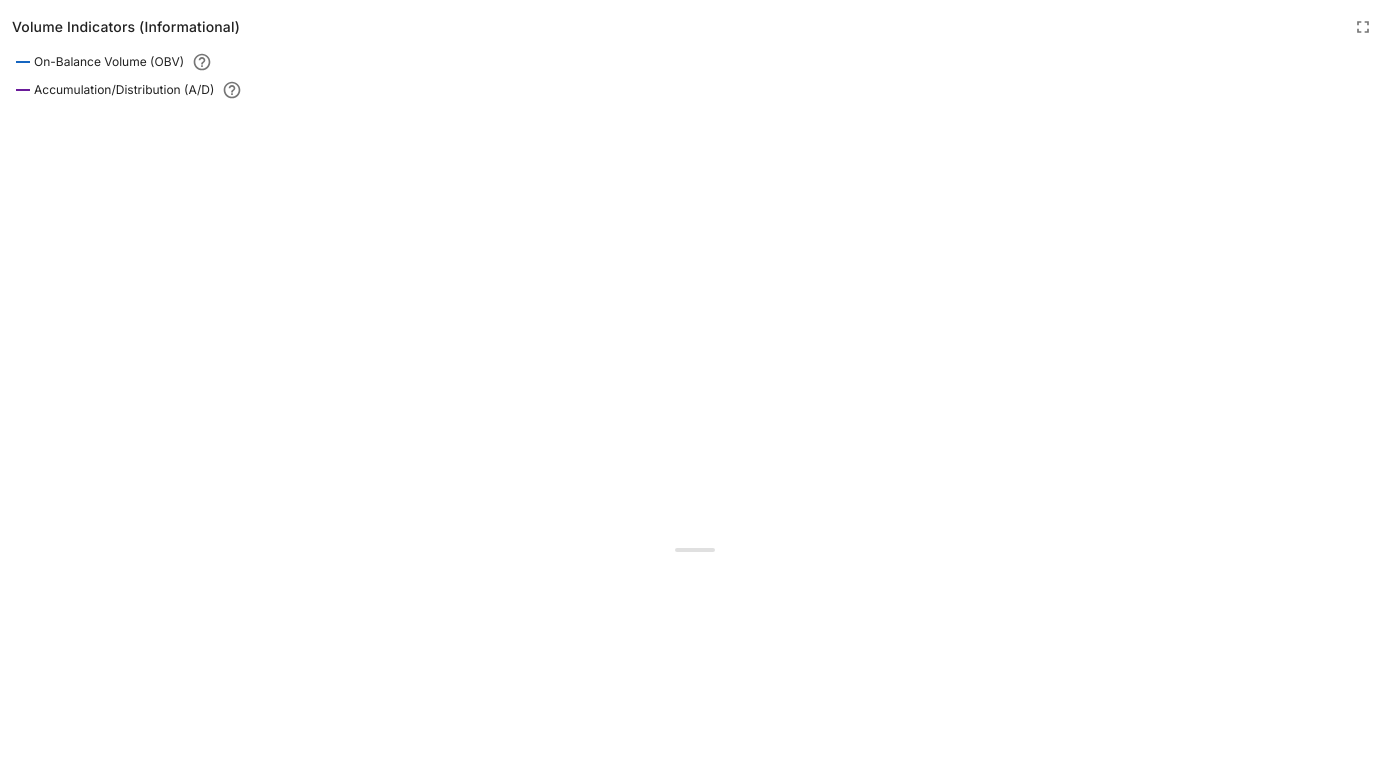
Test: VolumeIndicatorsChart › clicking the A/D legend label hides the A/D series only, leaving OBV visible
This screenshot has width=1390, height=780.
Click the button with aria-label "Hide Accumulation/Distribution (A/D) on the chart" at (115, 90), box x1=12 y1=78 x2=218 y2=102
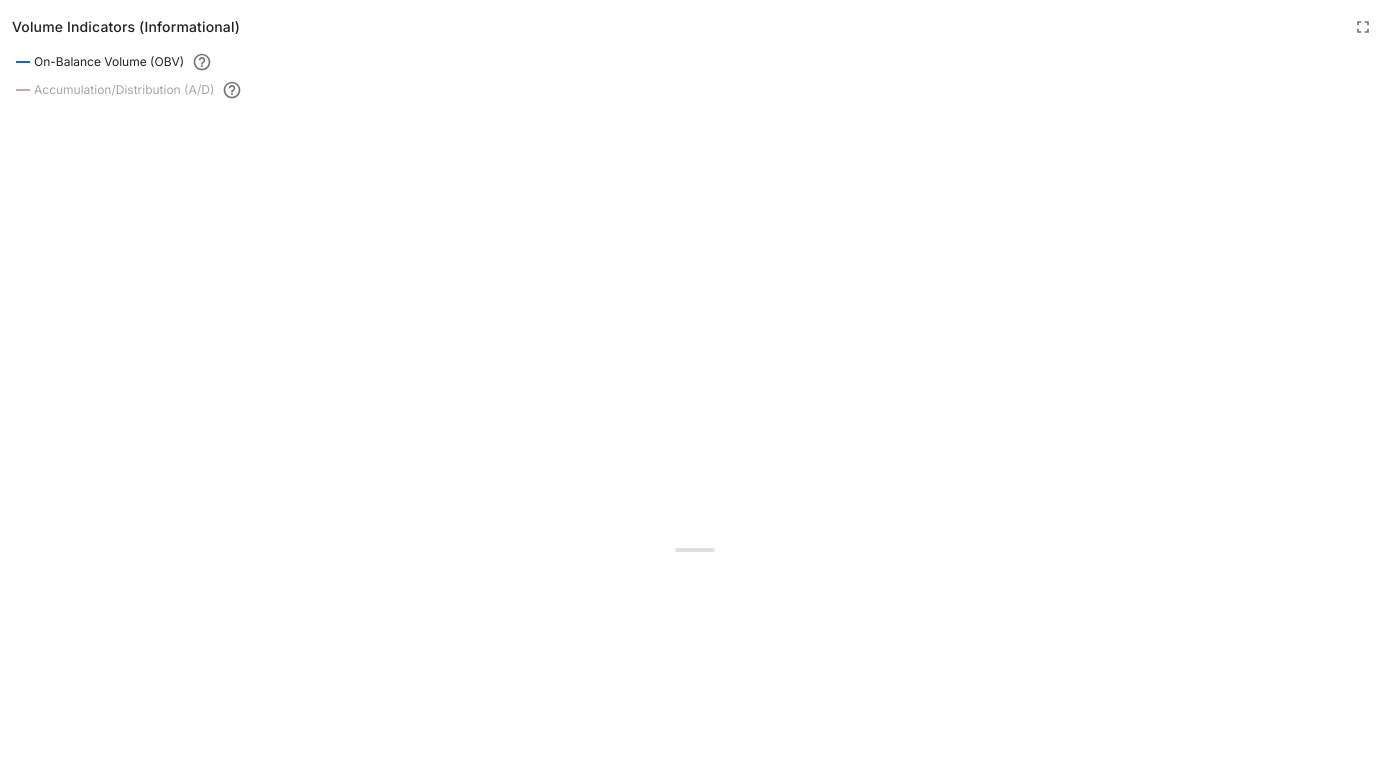
Click the button named "Accumulation/Distribution (A/D) help" at (232, 90), box x1=222 y1=80 x2=242 y2=100
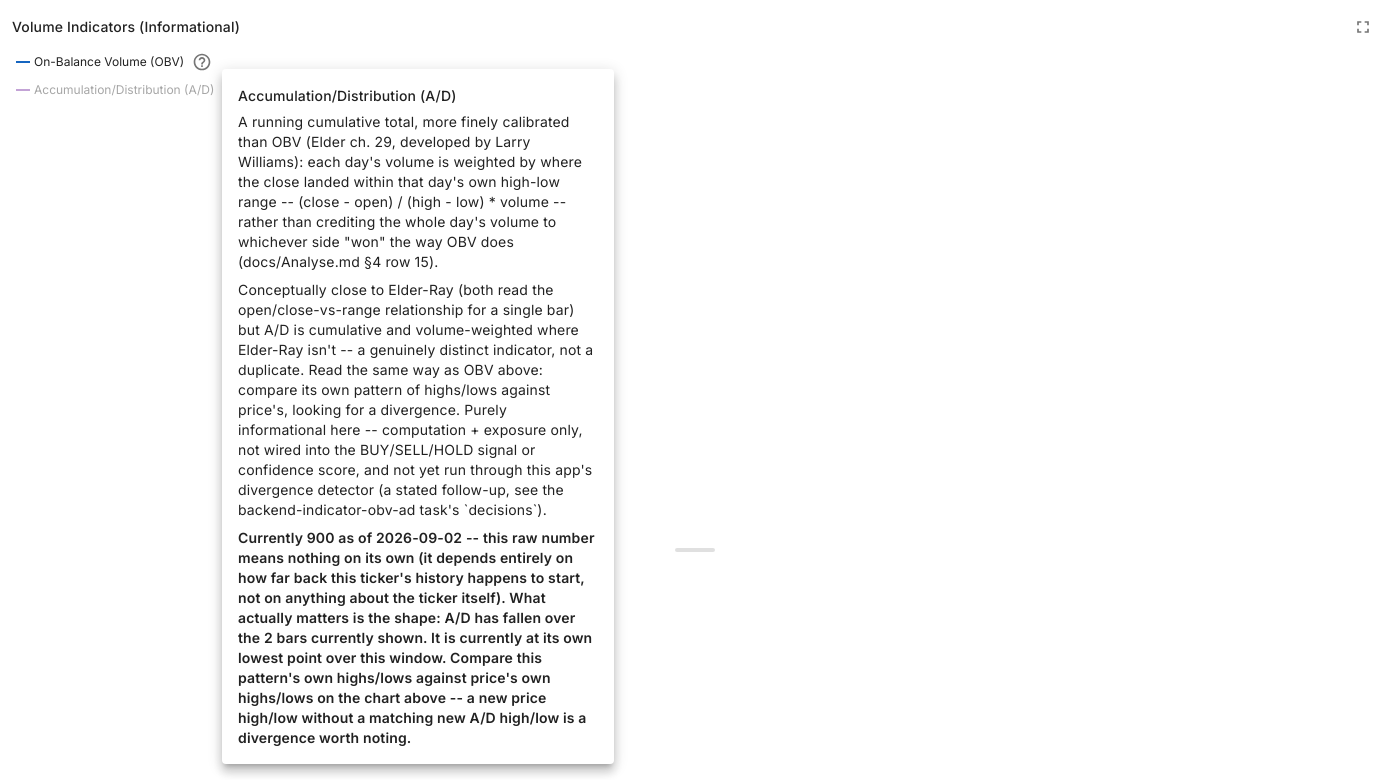
Expected: the text "A/D has fallen" is shown, x1=238 y1=529 x2=595 y2=746
